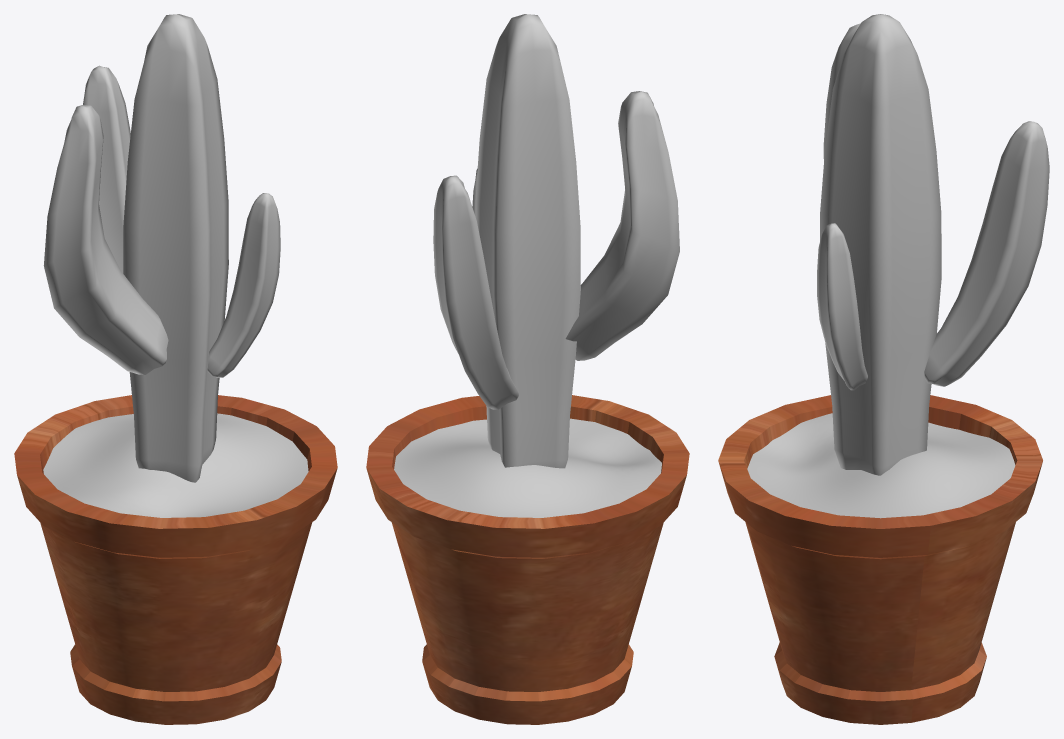
File: cac.fbx
The picture shows the model from 3 angles, left to right: view 1: azimuth 30°, elevation 25°; view 2: azimuth 150°, elevation 25°; view 3: azimuth 270°, elevation 25°; orthographic projection.
Parts seen in each view (by area): view 1: pCylinder1, pCube1, pDisc1, pCube2, pCube4, pCube3; view 2: pCylinder1, pCube1, pDisc1, pCube2, pCube3; view 3: pCylinder1, pCube1, pDisc1, pCube3, pCube4, pCube2.
Boxes of the visible parts, box(x1,y1,x2,y2) form: pCylinder1: box(14, 395, 337, 724); pCube1: box(123, 14, 228, 482); pDisc1: box(43, 413, 308, 517); pCube2: box(43, 105, 168, 374); pCube4: box(207, 193, 280, 377); pCube3: box(83, 65, 130, 273); pCylinder1: box(366, 395, 689, 724); pCube1: box(475, 14, 580, 468); pDisc1: box(394, 418, 661, 517); pCube2: box(565, 91, 679, 360); pCube3: box(433, 175, 518, 409); pCylinder1: box(718, 395, 1042, 724); pCube1: box(820, 14, 941, 475); pDisc1: box(747, 413, 1015, 518); pCube3: box(924, 121, 1049, 386); pCube4: box(817, 223, 867, 390); pCube2: box(823, 23, 860, 160).
Bounding box in the file's own units: 4.14 × 9.37 × 4.21.
